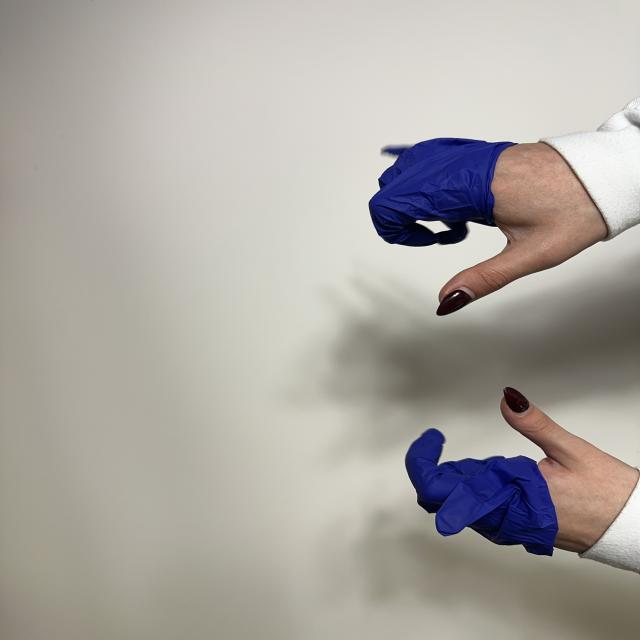glove_partial: (369, 138, 607, 316), (405, 388, 640, 556)
